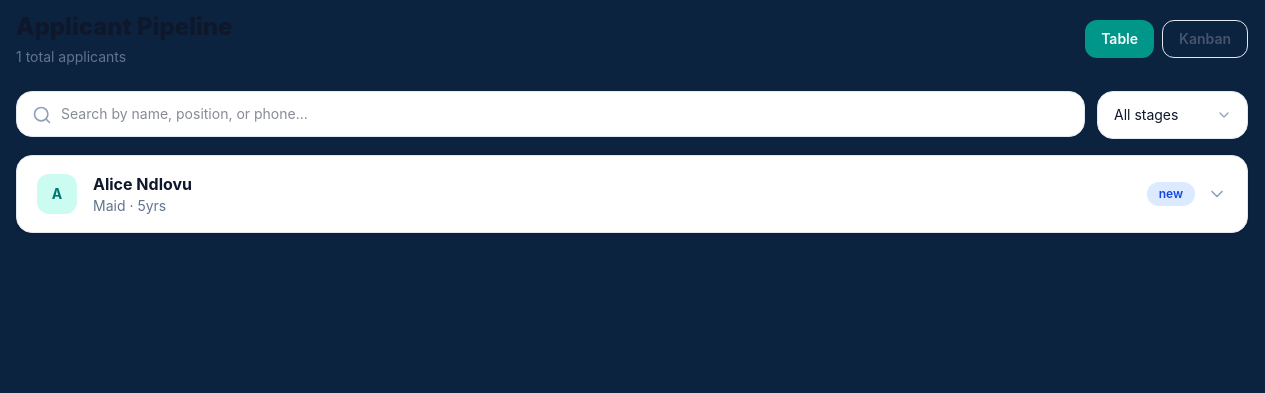
AdminApplicants › shows pipeline stage buttons in kanban view for a new applicant
# Wait for loading to finish, then switch to kanban view
Click the button "Kanban".
click(1205, 39)  # box 1162,20 -> 1248,58
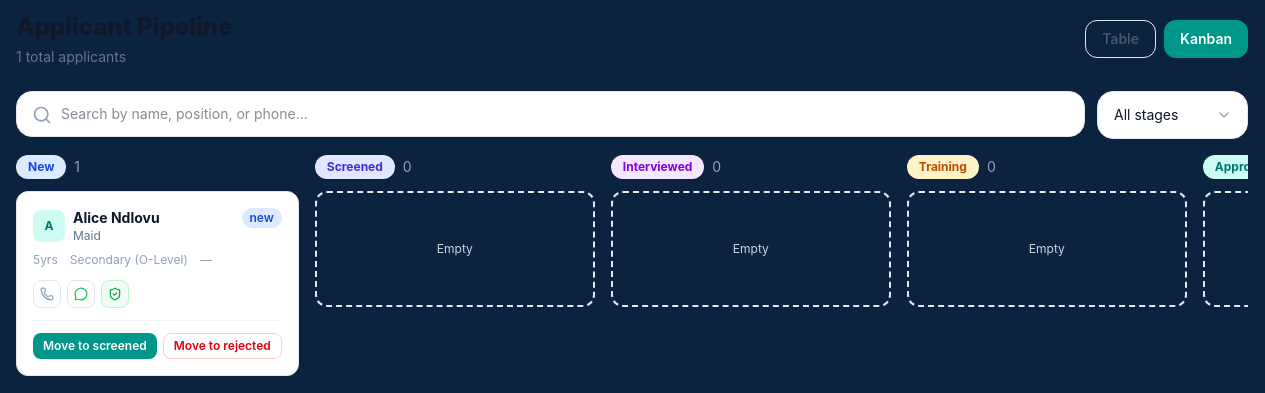
Expected: the button "Move to screened" is shown, 33,333 -> 157,359
Expected: the button "Move to rejected" is shown, 163,333 -> 282,359
